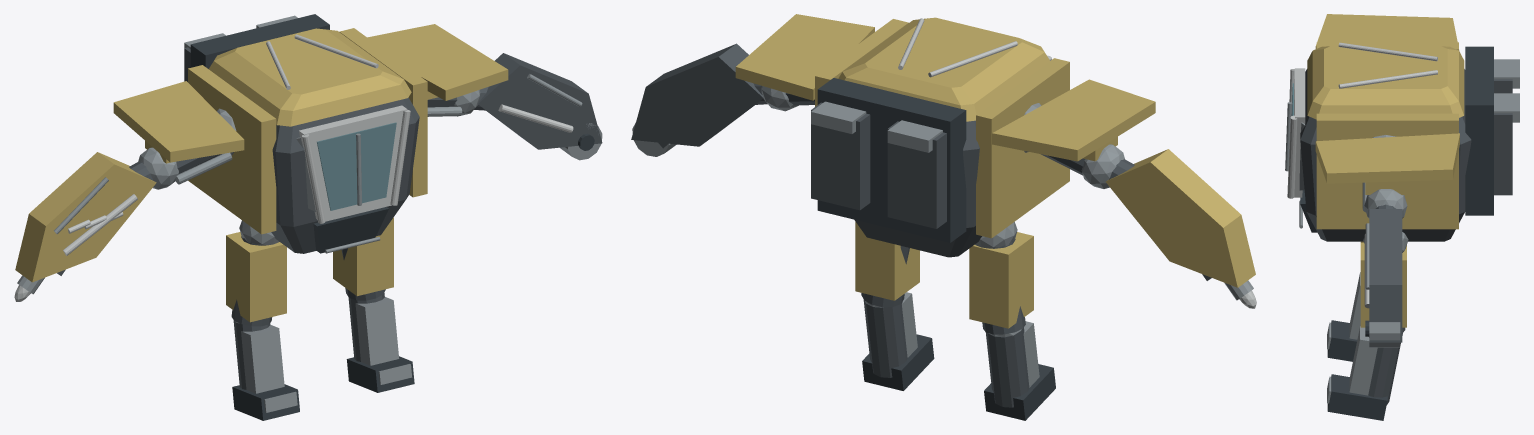
The model's file is imp_yellow_mech.glb.
The picture shows the model from 3 angles, left to right: view 1: azimuth 30°, elevation 25°; view 2: azimuth 150°, elevation 25°; view 3: azimuth 270°, elevation 25°; orthographic projection. The views are drawn at different scales.
Visible parts, largest first — view 1: roof_armor, wing_guard_left, side_armor_-1, shoulder_wing_left, wing_guard_right, main_chassis, shoulder_wing_right, cockpit_glass, thigh_armor_left, cockpit_surround, thigh_armor_right, side_armor_1 (+14 smaller); view 2: roof_armor, wing_guard_left, rear_engine_block, side_armor_-1, wing_guard_right, shoulder_wing_left, shoulder_wing_right, thigh_armor_left, rear_engine_casing_1, rear_engine_casing_-1, thigh_armor_right, main_chassis (+10 smaller); view 3: roof_armor, side_armor_1, shoulder_wing_right, rear_engine_block, wing_guard_right, main_chassis, shoulder_wing_left, foot_right, rear_engine_casing_1, shin_armor_right, shin_right, cockpit_surround (+15 smaller).
Part boxes in pixels (bbox=[...]): roof_armor: bbox=[209, 28, 411, 126]; wing_guard_left: bbox=[15, 152, 156, 282]; side_armor_-1: bbox=[188, 65, 276, 234]; shoulder_wing_left: bbox=[113, 81, 244, 162]; wing_guard_right: bbox=[478, 53, 602, 149]; main_chassis: bbox=[271, 97, 419, 253]; shoulder_wing_right: bbox=[367, 24, 508, 100]; cockpit_glass: bbox=[317, 122, 396, 210]; thigh_armor_left: bbox=[226, 232, 286, 322]; cockpit_surround: bbox=[299, 105, 407, 221]; thigh_armor_right: bbox=[333, 217, 393, 296]; side_armor_1: bbox=[339, 28, 427, 197]; roof_armor: bbox=[838, 17, 1049, 121]; wing_guard_left: bbox=[1105, 149, 1255, 287]; rear_engine_block: bbox=[817, 78, 966, 242]; side_armor_-1: bbox=[976, 58, 1069, 238]; wing_guard_right: bbox=[631, 43, 763, 146]; shoulder_wing_left: bbox=[992, 79, 1155, 161]; shoulder_wing_right: bbox=[735, 14, 874, 100]; thigh_armor_left: bbox=[969, 232, 1033, 328]; rear_engine_casing_1: bbox=[811, 102, 870, 210]; rear_engine_casing_-1: bbox=[887, 121, 946, 228]; thigh_armor_right: bbox=[855, 221, 919, 300]; main_chassis: bbox=[854, 120, 981, 257]; roof_armor: bbox=[1307, 46, 1464, 119]; side_armor_1: bbox=[1316, 113, 1458, 229]; shoulder_wing_right: bbox=[1315, 133, 1459, 183]; rear_engine_block: bbox=[1465, 46, 1493, 215]; wing_guard_right: bbox=[1369, 209, 1402, 342]; main_chassis: bbox=[1300, 69, 1471, 241]; shoulder_wing_left: bbox=[1315, 14, 1459, 50]; foot_right: bbox=[1327, 374, 1387, 420]; rear_engine_casing_1: bbox=[1494, 113, 1512, 195]; shin_armor_right: bbox=[1349, 326, 1377, 395]; shin_right: bbox=[1368, 333, 1402, 404]; cockpit_surround: bbox=[1294, 68, 1305, 197].
Size of the model in its own units: 6.27 by 3.44 by 2.28.
